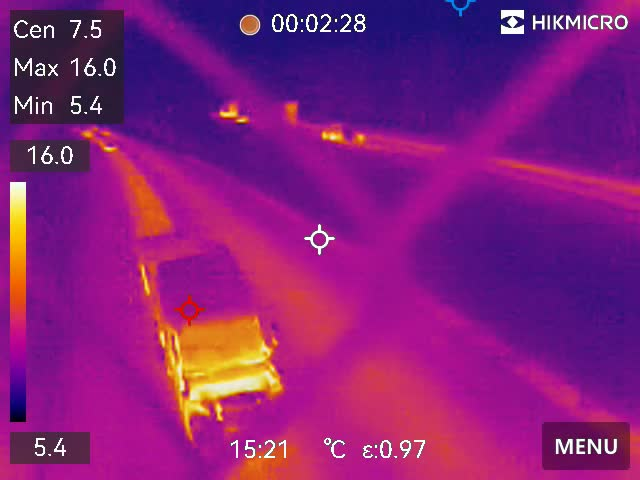heavyTruck: (143, 257, 292, 445)
